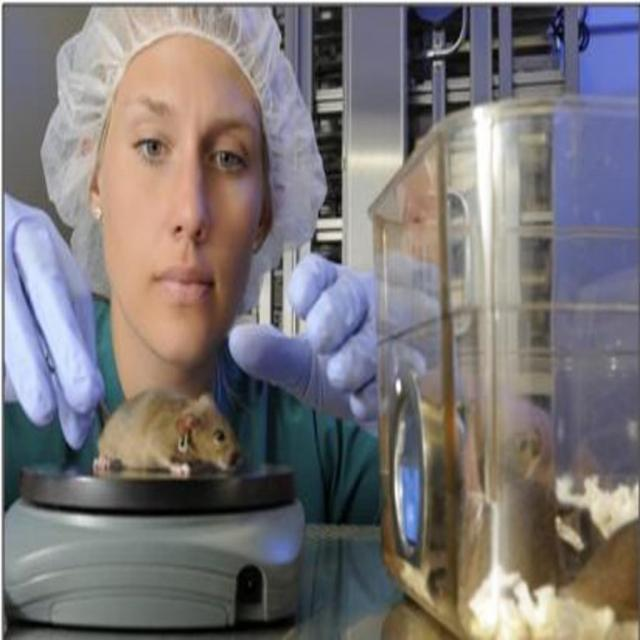rat: (89, 385, 244, 480)
